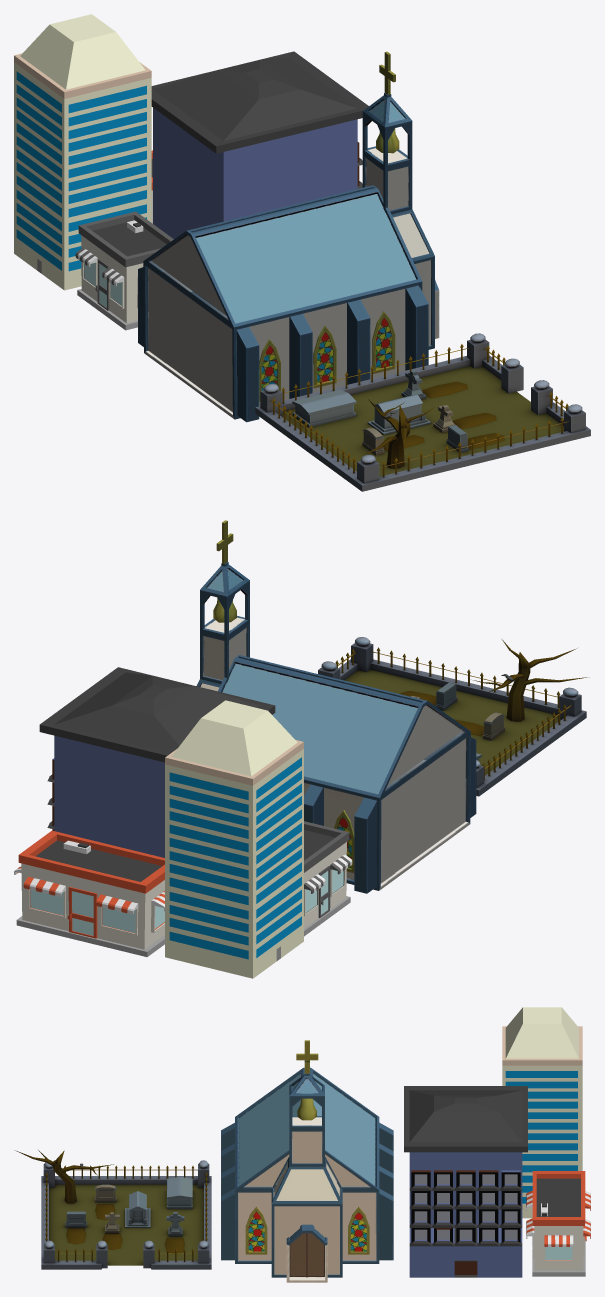
The model's file is ChurchBuilding.fbx.
3 views of the same model, one above another, from view 1: azimuth 30°, elevation 25°; view 2: azimuth 150°, elevation 25°; view 3: azimuth 270°, elevation 25° (orthographic). The views are drawn at different scales.
Parts seen in each view (by area): view 1: Plane001.002, Object_108.001, Skyscraper5, Line004, Shop_Cube.002; view 2: Plane001.002, Skyscraper5, Object_108.001, Shop_Cube.001, Line004, Shop_Cube.002; view 3: Plane001.002, Object_108.001, Line004, Skyscraper5, Shop_Cube.001.
Part boxes in pixels (bbox=[...]): Plane001.002: bbox=[138, 51, 439, 422]; Object_108.001: bbox=[151, 51, 368, 238]; Skyscraper5: bbox=[14, 14, 151, 290]; Line004: bbox=[255, 333, 590, 491]; Shop_Cube.002: bbox=[75, 211, 173, 330]; Plane001.002: bbox=[196, 520, 476, 893]; Skyscraper5: bbox=[165, 700, 303, 978]; Object_108.001: bbox=[39, 667, 275, 857]; Shop_Cube.001: bbox=[14, 830, 164, 956]; Line004: bbox=[318, 637, 589, 796]; Shop_Cube.002: bbox=[304, 821, 352, 936]; Plane001.002: bbox=[221, 1040, 393, 1282]; Object_108.001: bbox=[404, 1086, 527, 1277]; Line004: bbox=[15, 1150, 211, 1269]; Skyscraper5: bbox=[502, 1007, 582, 1218]; Shop_Cube.001: bbox=[526, 1171, 590, 1276].
Size of the model in its own units: 917 by 1014 by 2335.
Materials: 13 (4 with a texture image).
